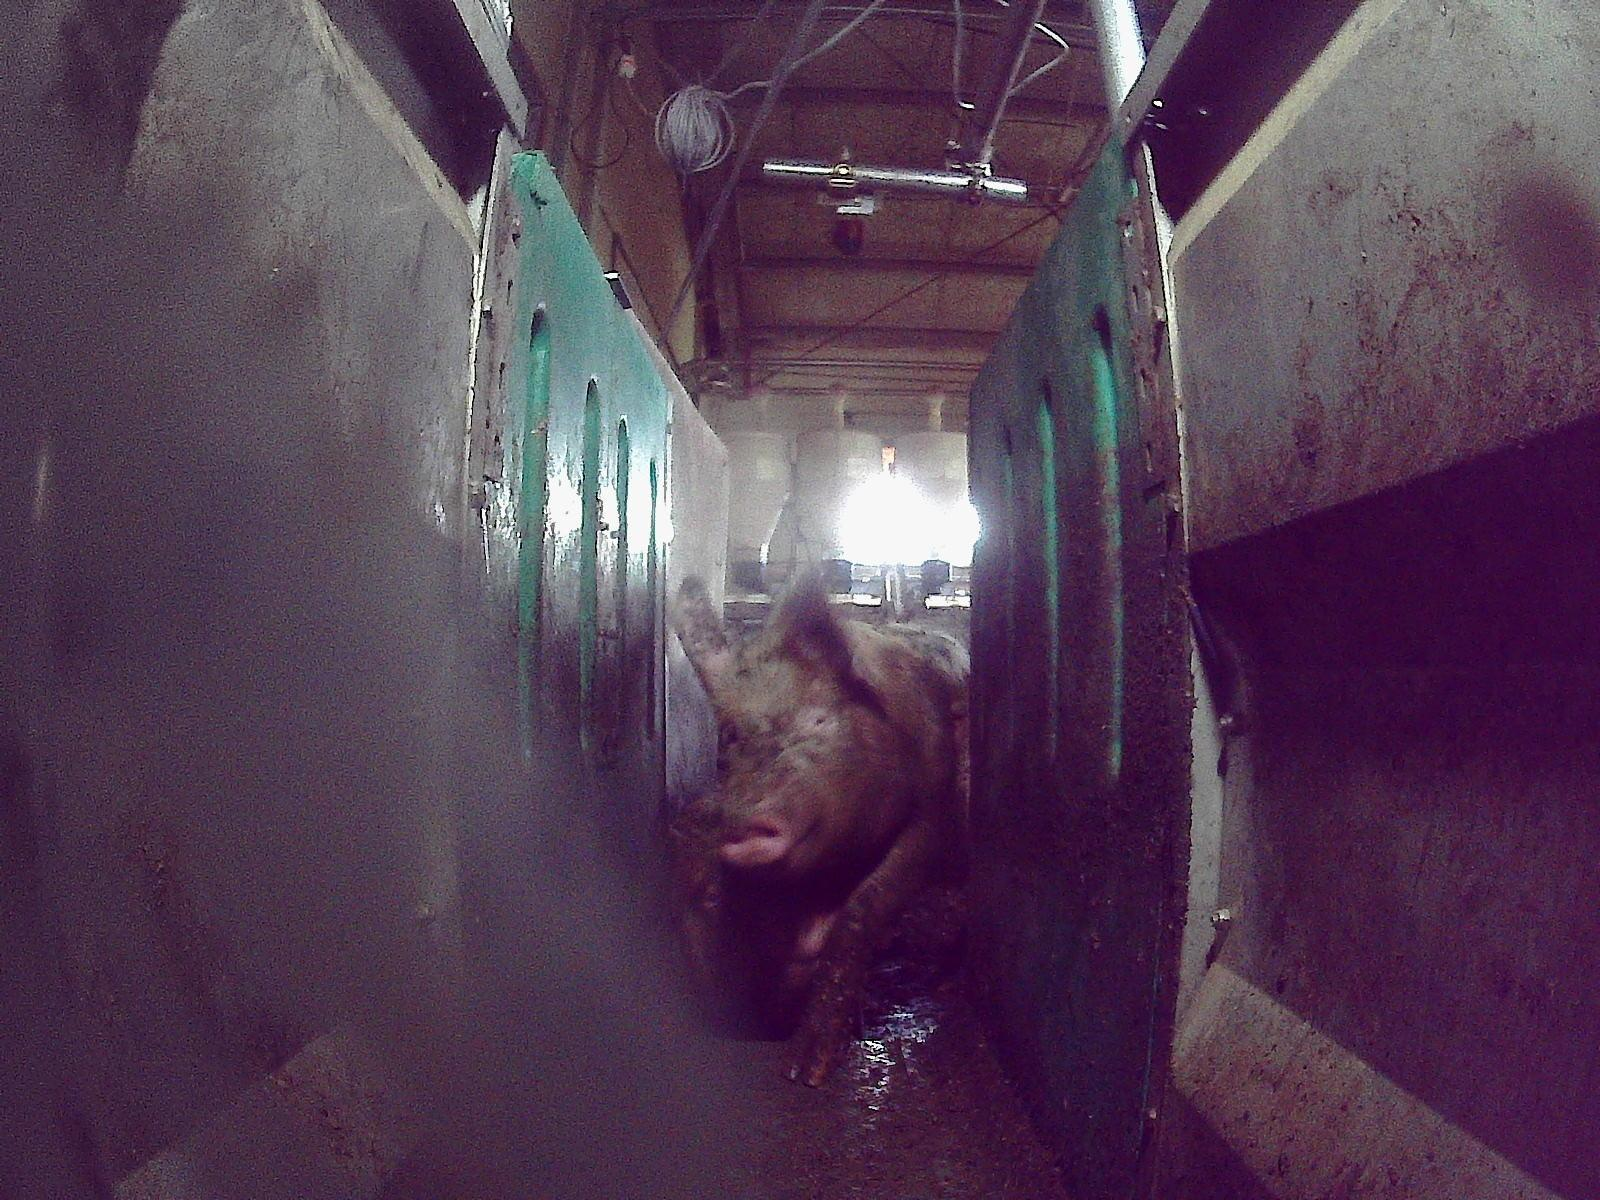Face: (707, 660, 853, 871)
